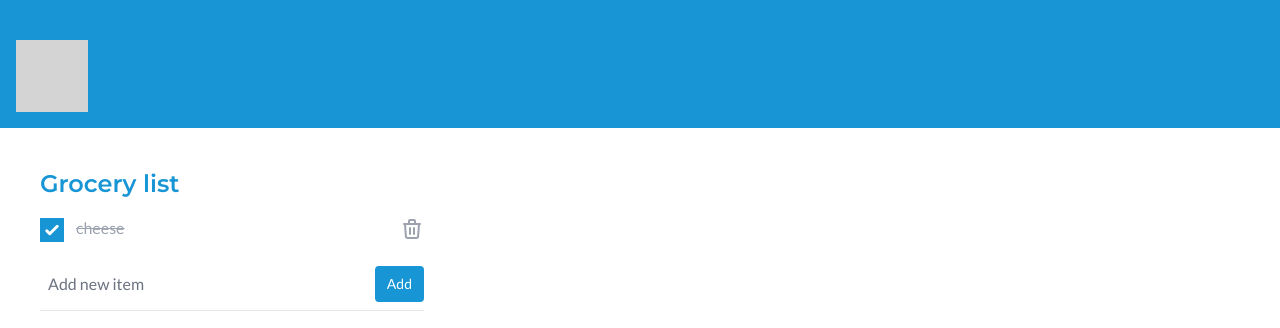
Test: Grocery list frontend tests › should let a user remove an item from the grocery list
The width and height of the screenshot is (1280, 328).
Expected: the text "cheese" is shown, [76,218,124,237]
Click the button named "delete cheese" at (412, 229), box [400,217,424,241]
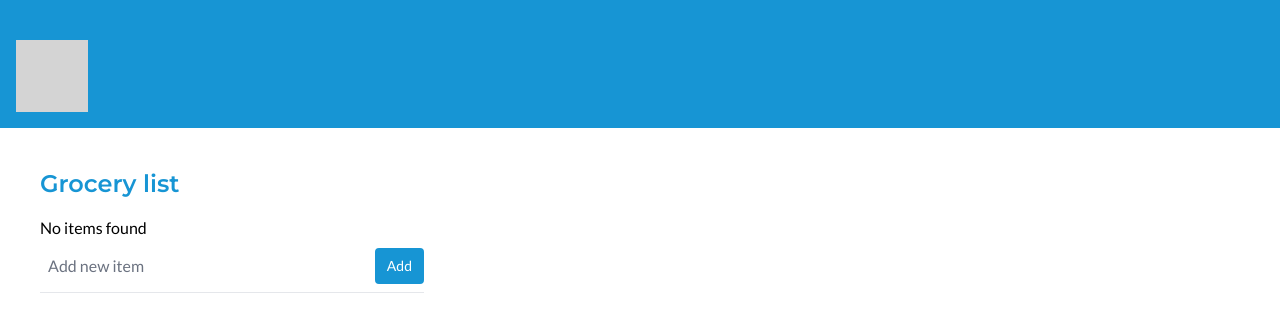
Expected: the text "cheese" is gone
